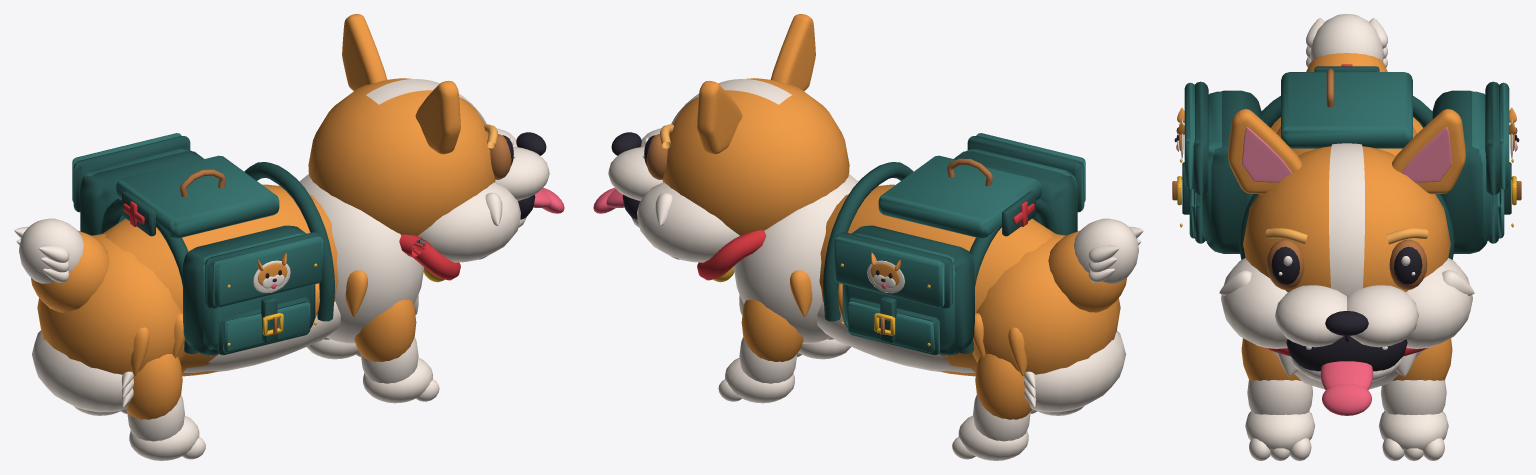
File: char.corgi.glb
3 renders of one model, left to right at view 1: azimuth 30°, elevation 25°; view 2: azimuth 150°, elevation 25°; view 3: azimuth 270°, elevation 25°, orthographic. The views are drawn at different scales.
Parts seen in each view (by area): view 1: body, packSocket, head, tail, legBR, legFR, legFL; view 2: body, packSocket, head, tail, legBL, legFL, legFR; view 3: head, packSocket, legFL, legFR, tail, body.
Part boxes in pixels (left/top/right/bottom): body: left=32, top=174, right=460, bottom=412; packSocket: left=72, top=133, right=334, bottom=355; head: left=308, top=14, right=564, bottom=262; tail: left=14, top=218, right=109, bottom=312; legBR: left=126, top=354, right=205, bottom=460; legFR: left=354, top=299, right=439, bottom=403; legFL: left=307, top=338, right=360, bottom=359; body: left=697, top=174, right=1125, bottom=412; packSocket: left=823, top=133, right=1085, bottom=355; head: left=593, top=14, right=849, bottom=262; tail: left=1048, top=218, right=1143, bottom=312; legBL: left=952, top=354, right=1031, bottom=460; legFL: left=718, top=299, right=803, bottom=403; legFR: left=797, top=338, right=850, bottom=359; head: left=1219, top=109, right=1474, bottom=415; packSocket: left=1172, top=64, right=1521, bottom=259; legFL: left=1379, top=338, right=1452, bottom=460; legFR: left=1241, top=338, right=1314, bottom=460; tail: left=1306, top=14, right=1387, bottom=71; body: left=1266, top=117, right=1427, bottom=389.
Size of the model in its own units: 1.67 by 0.9532 by 0.847.
